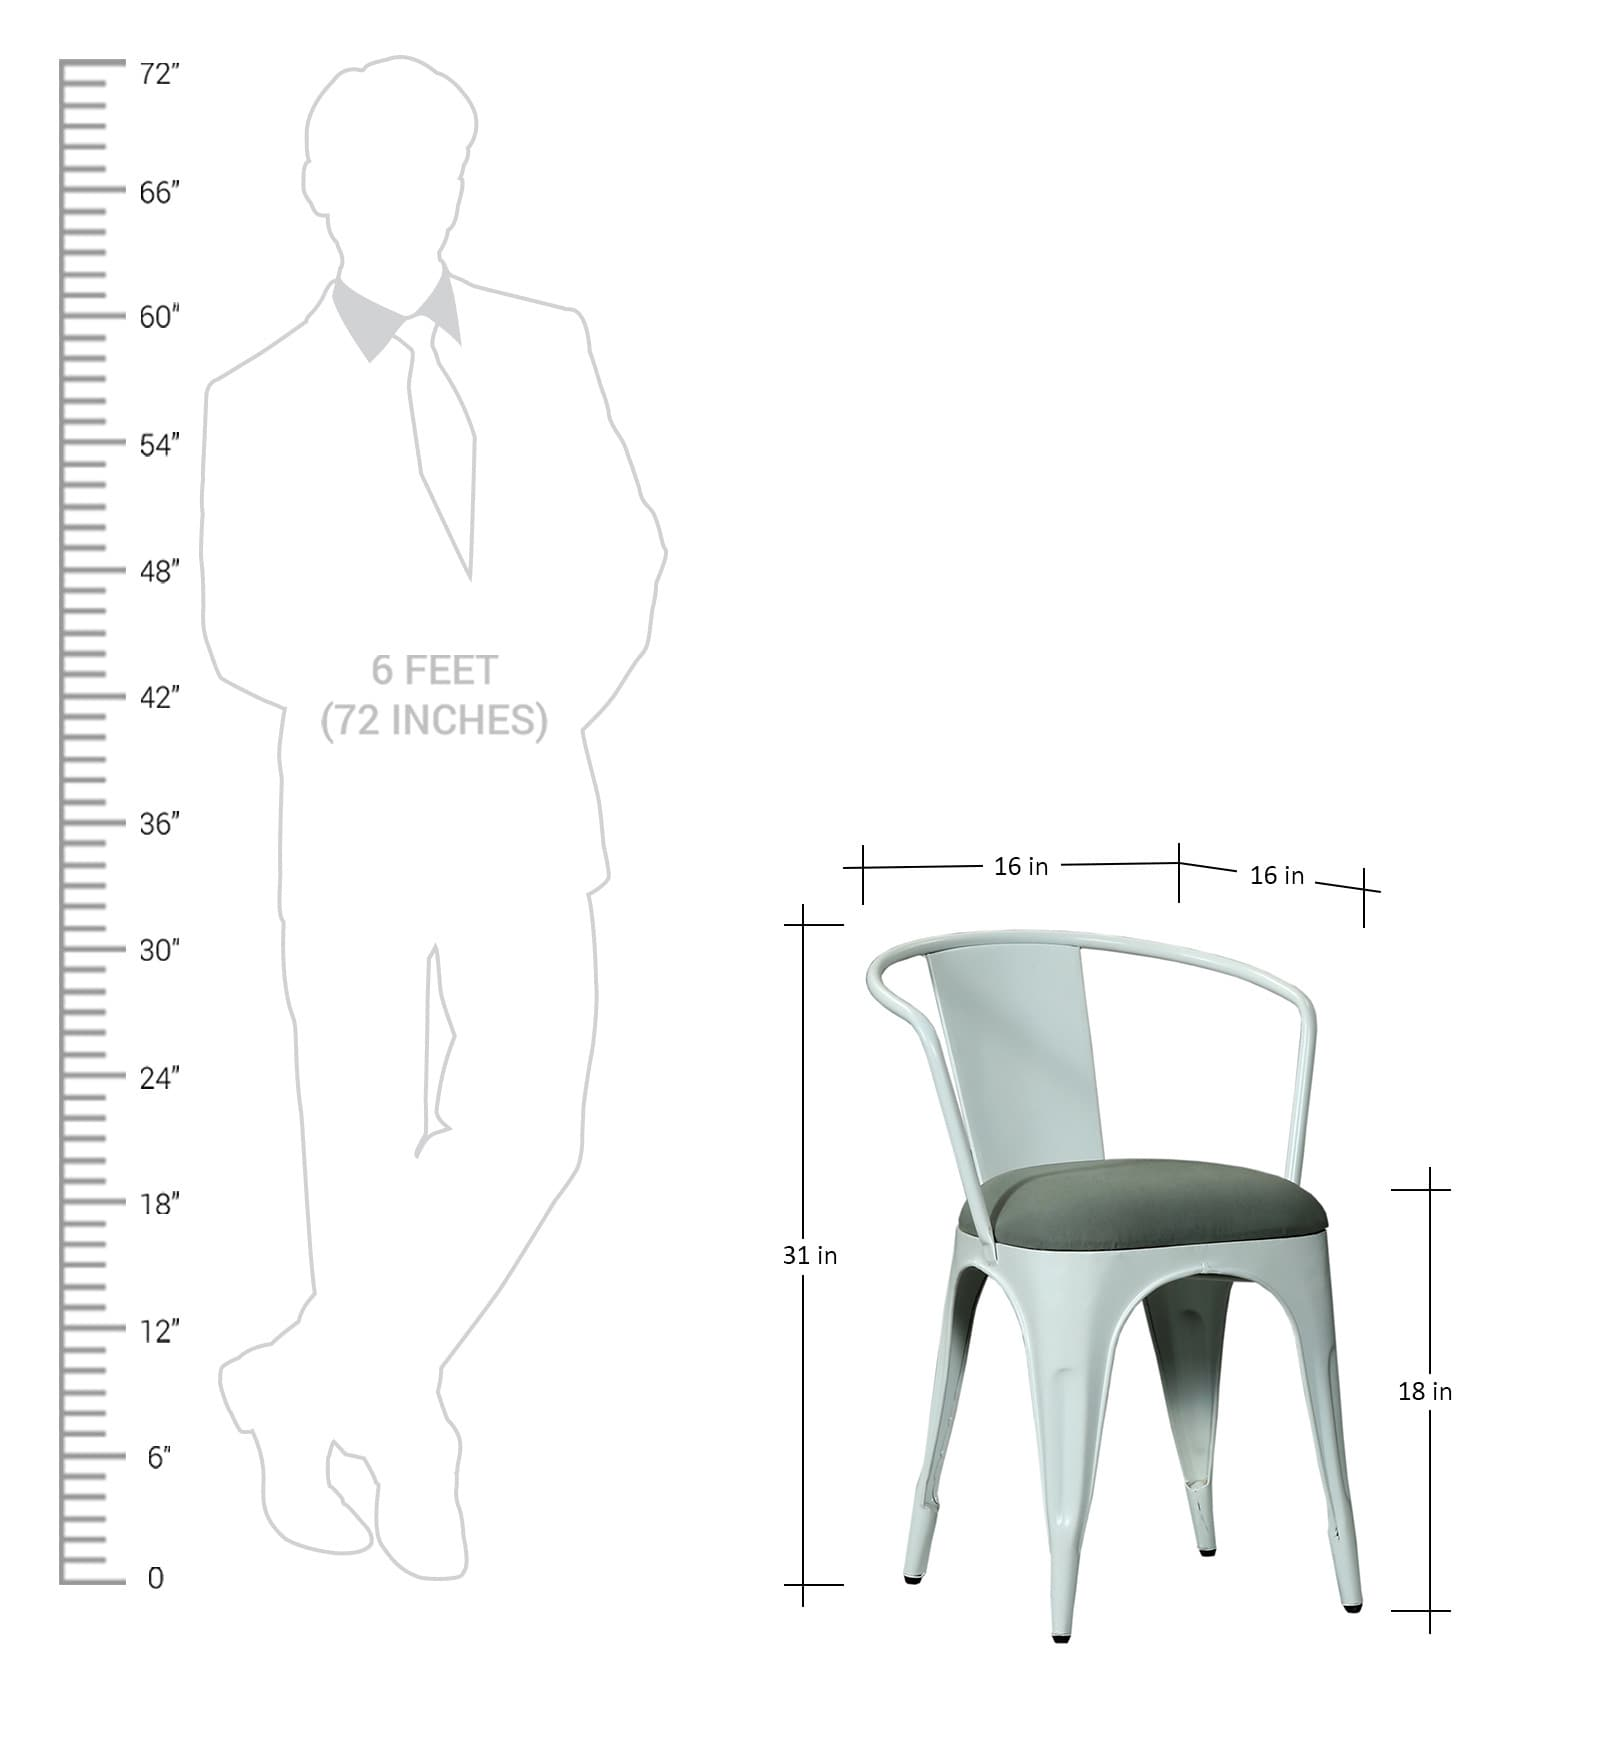Danlou Metal Chair with Cushion in White Colour by Bohemiana: (844, 908, 1390, 1682)
